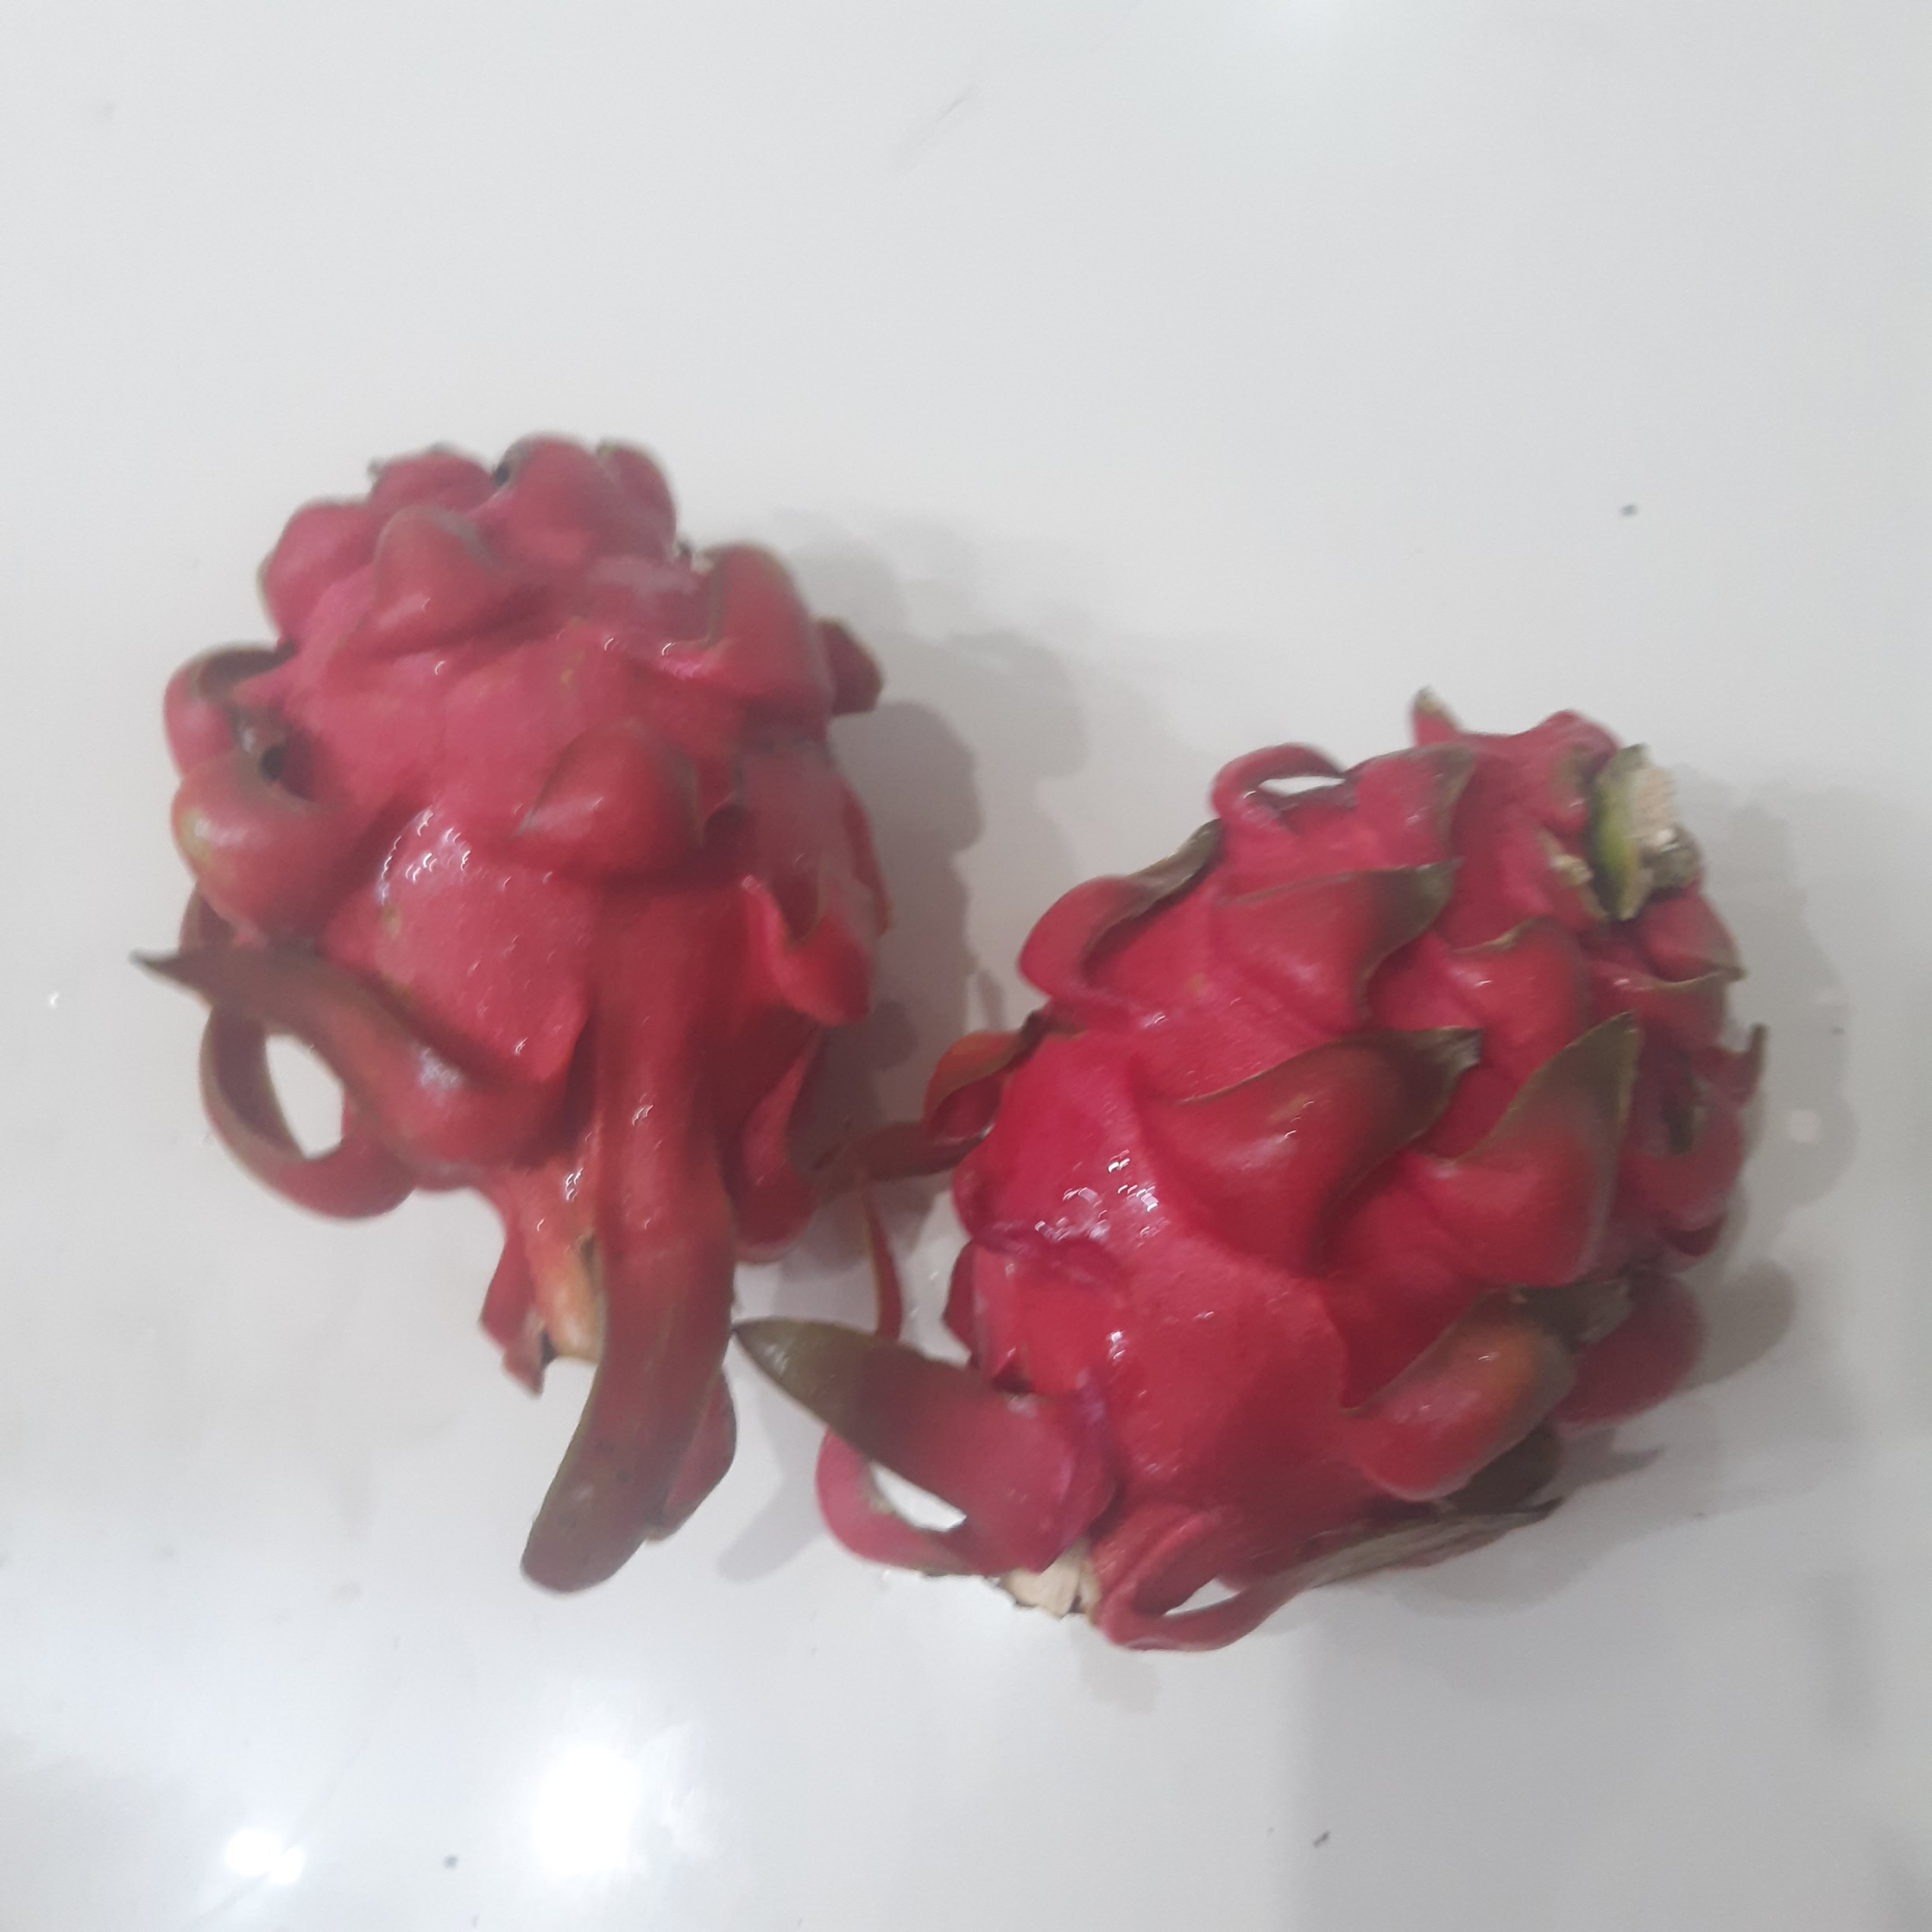Thanh long: (954, 713, 1730, 1522), (161, 449, 879, 1304)
